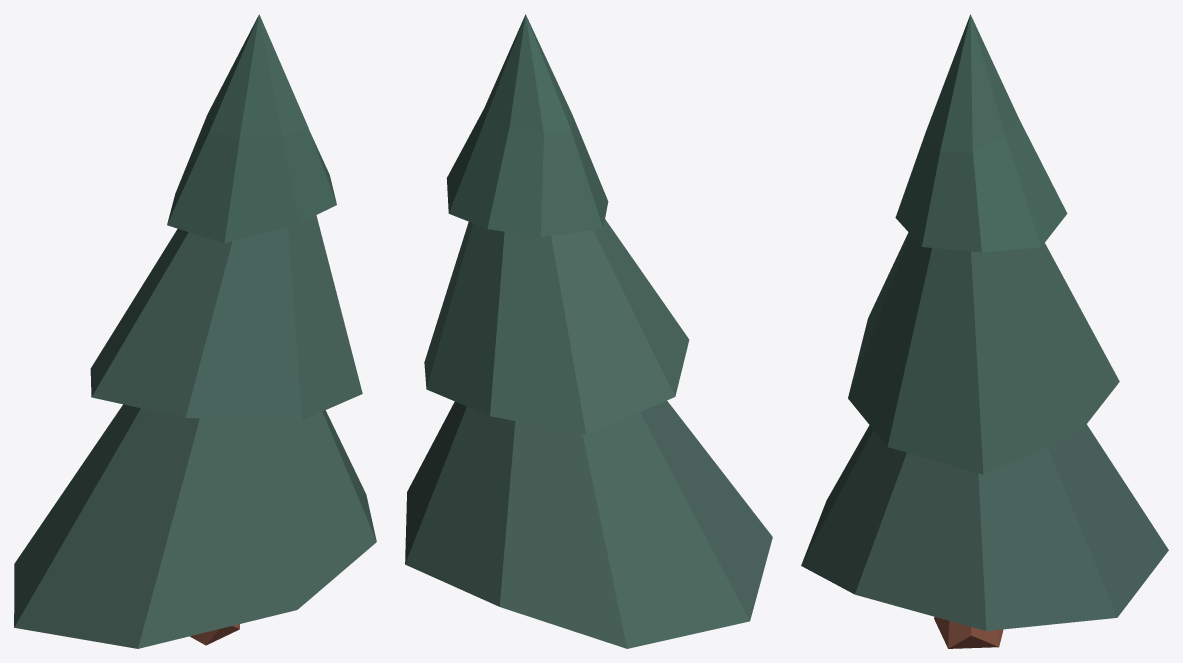
File: spruce2.fbx
3 views of the same model, side by side, from view 1: azimuth 30°, elevation 25°; view 2: azimuth 150°, elevation 25°; view 3: azimuth 270°, elevation 25° (orthographic). The views are drawn at different scales.
Parts seen in each view (by area): view 1: Cone.009; view 2: Cone.009; view 3: Cone.009.
Part boxes in pixels (<box>): Cone.009: <box>14,14,376,648</box>; Cone.009: <box>405,14,772,648</box>; Cone.009: <box>801,14,1168,648</box>.
Size of the model in its own units: 6.72 by 11.12 by 5.61.
1 material, 1 textured.
